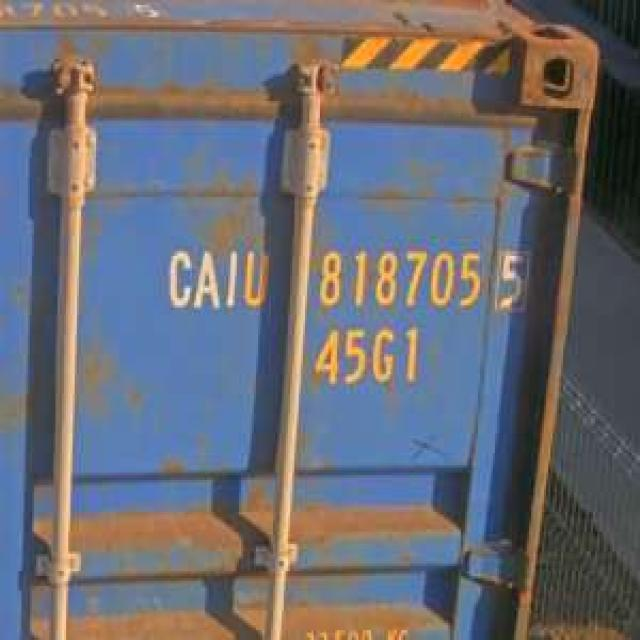dv: (490, 243, 537, 319)
owner: (166, 240, 274, 318)
serial: (316, 242, 482, 312)
size: (302, 320, 430, 393)
